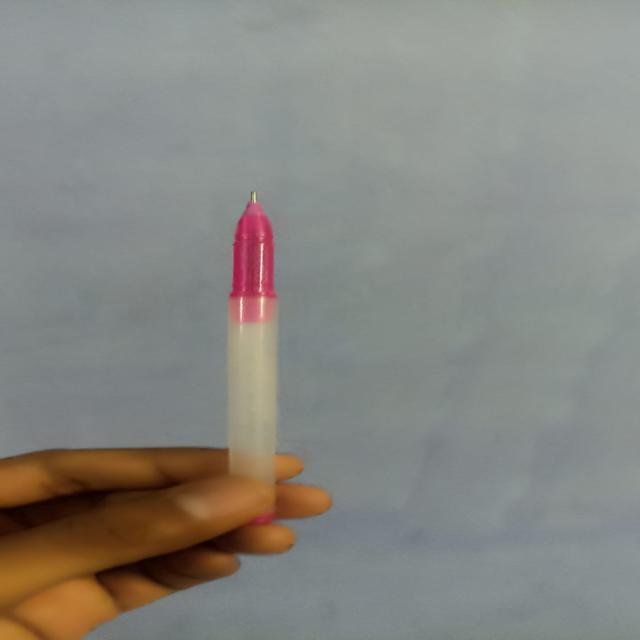pen: (208, 181, 329, 533)
